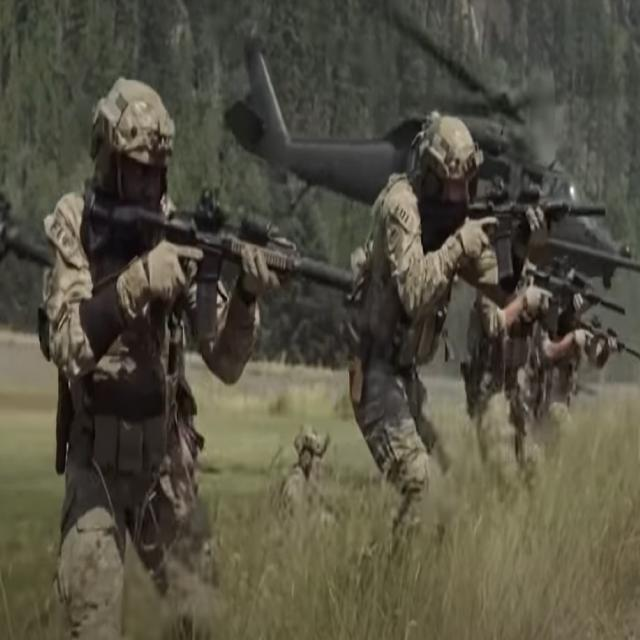m16: (85, 160, 367, 377)
